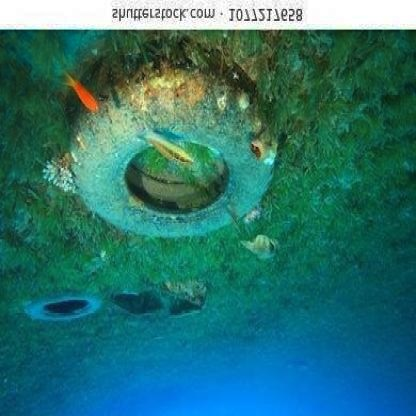misc: (108, 275, 202, 327)
tire: (57, 46, 274, 244), (25, 290, 97, 322)
